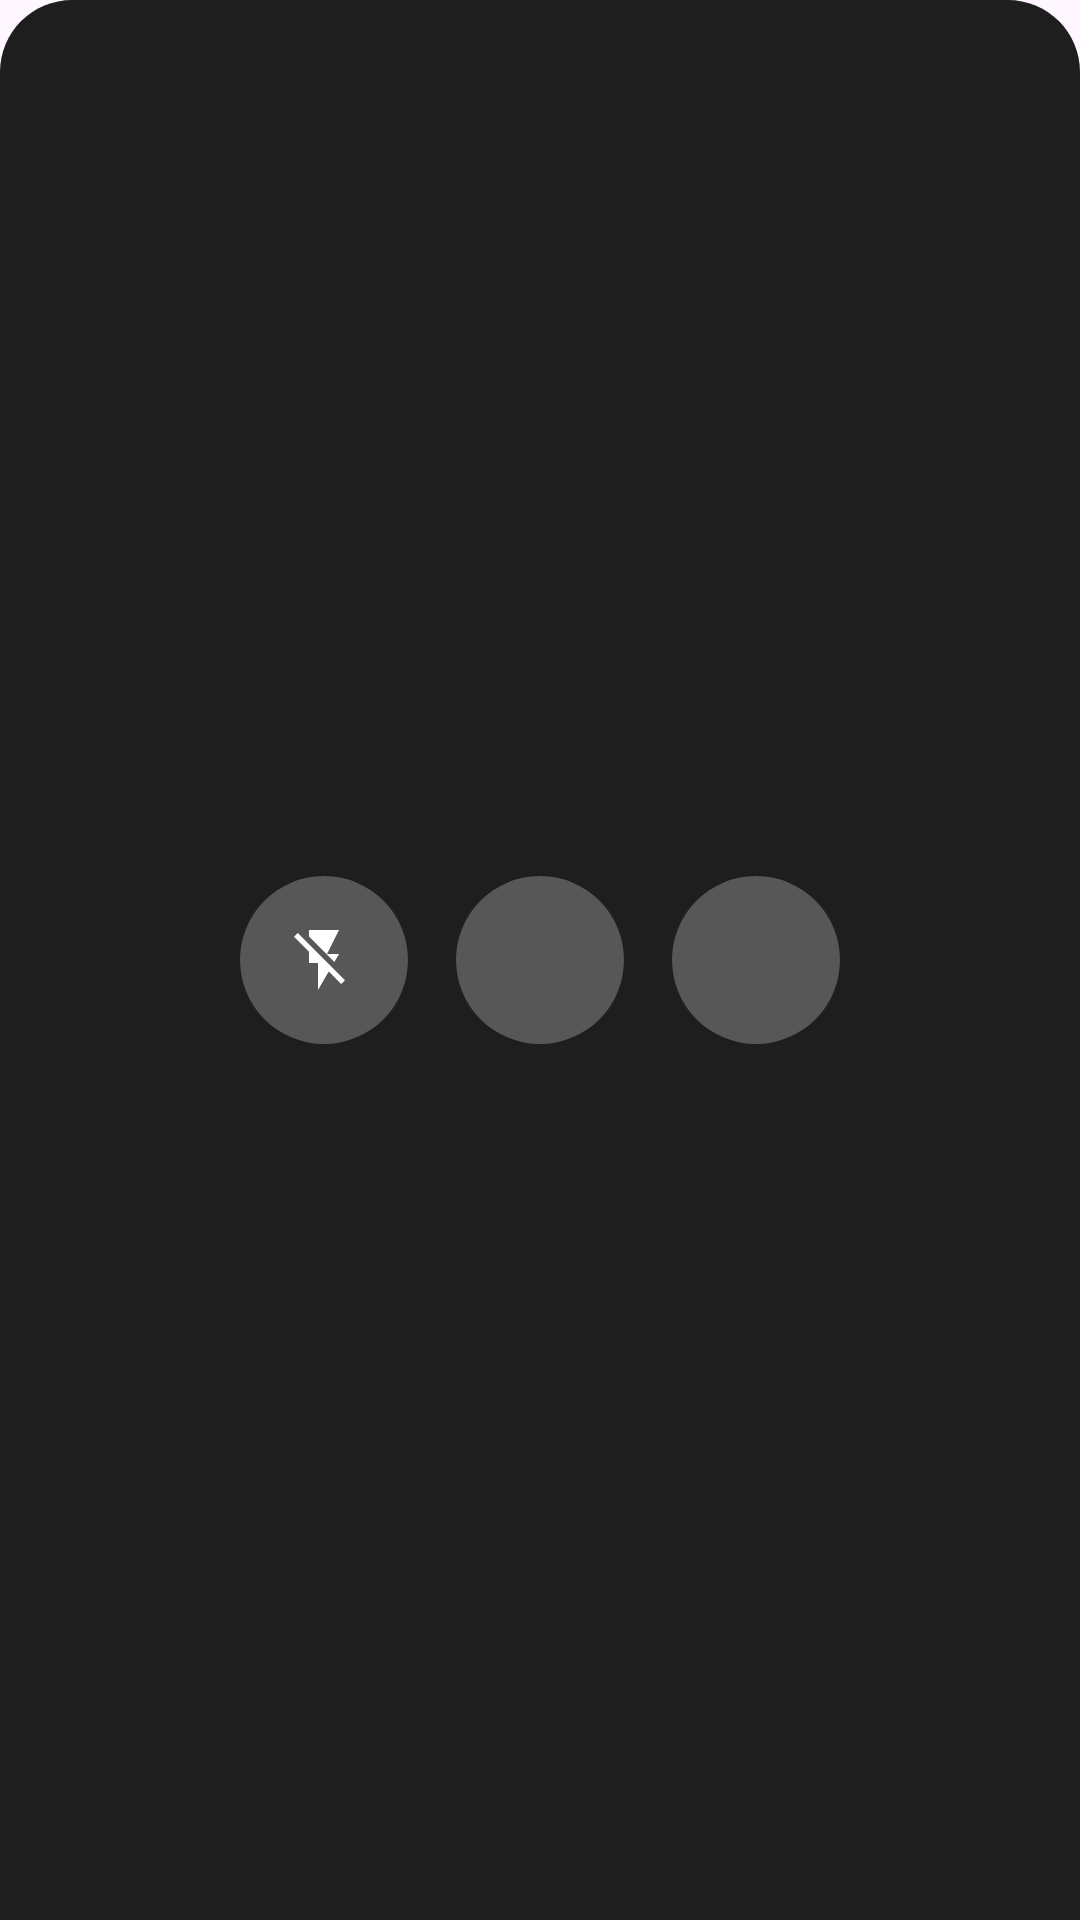

Point at icon controls on the screen. Image size 1080x1920, points as [x,y].
Toggle torch: [324,960]
